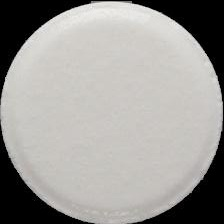49999-030: (0, 0, 224, 224)
